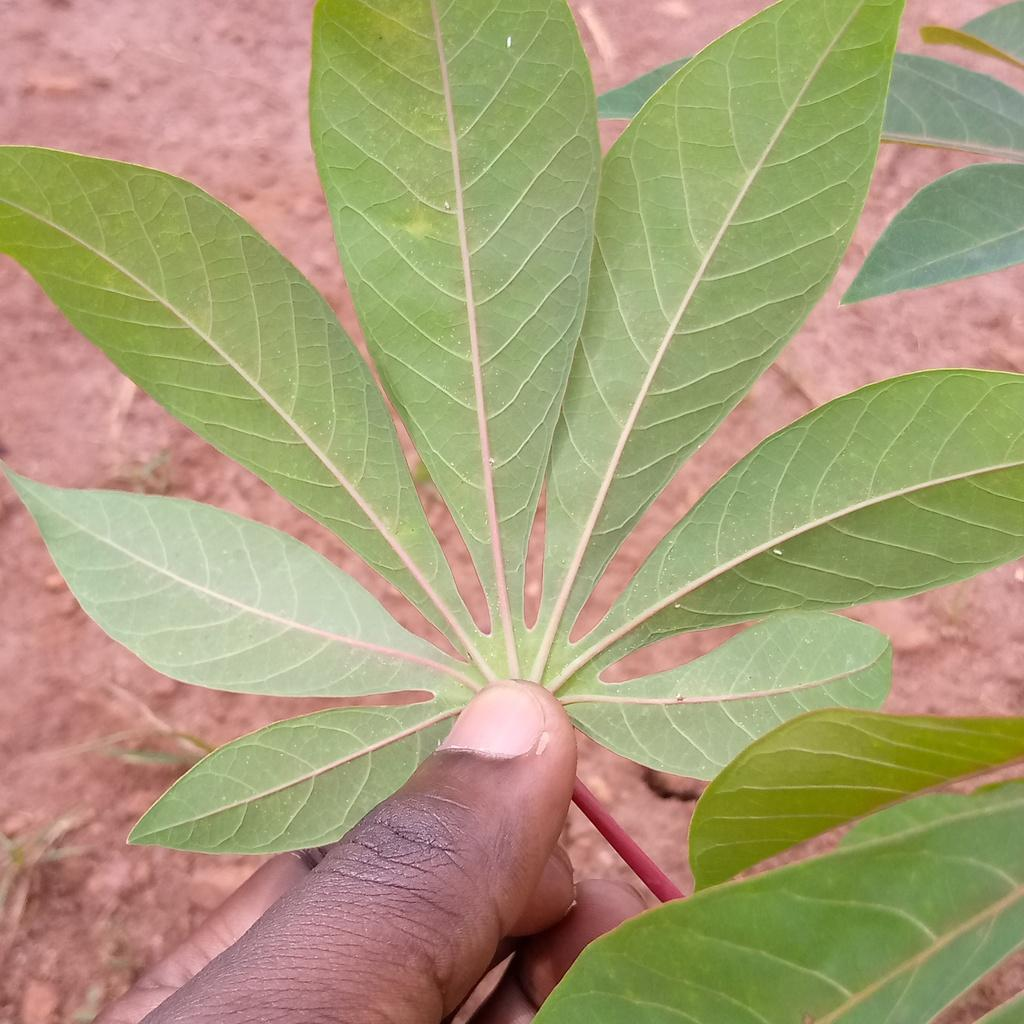adult: (443, 200, 450, 210), (772, 549, 782, 555), (673, 603, 682, 609)
